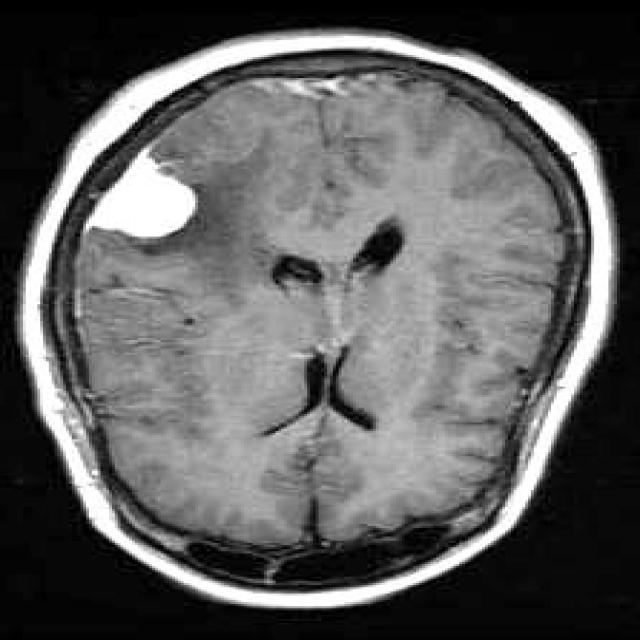Tumor: (83, 150, 192, 237)
